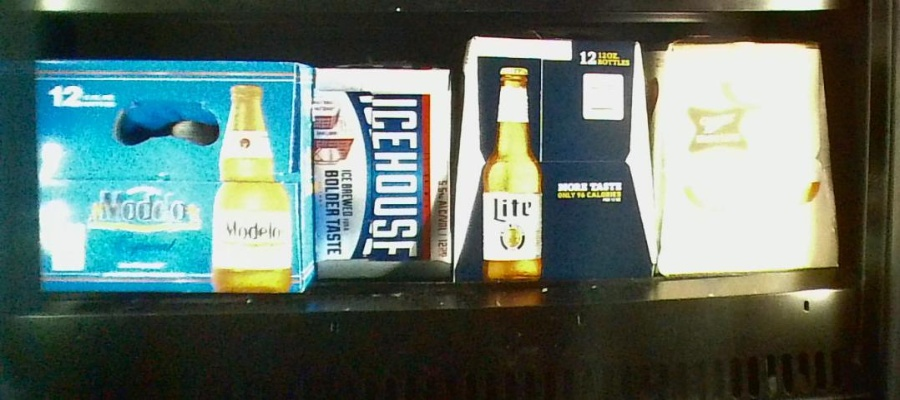bottle: (32, 62, 313, 302), (461, 36, 650, 278), (655, 36, 835, 277), (312, 64, 450, 284)
